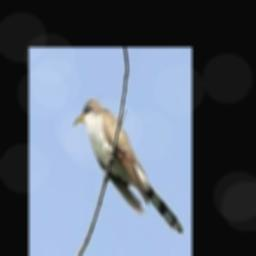Cuckoo: (75, 100, 183, 234)
